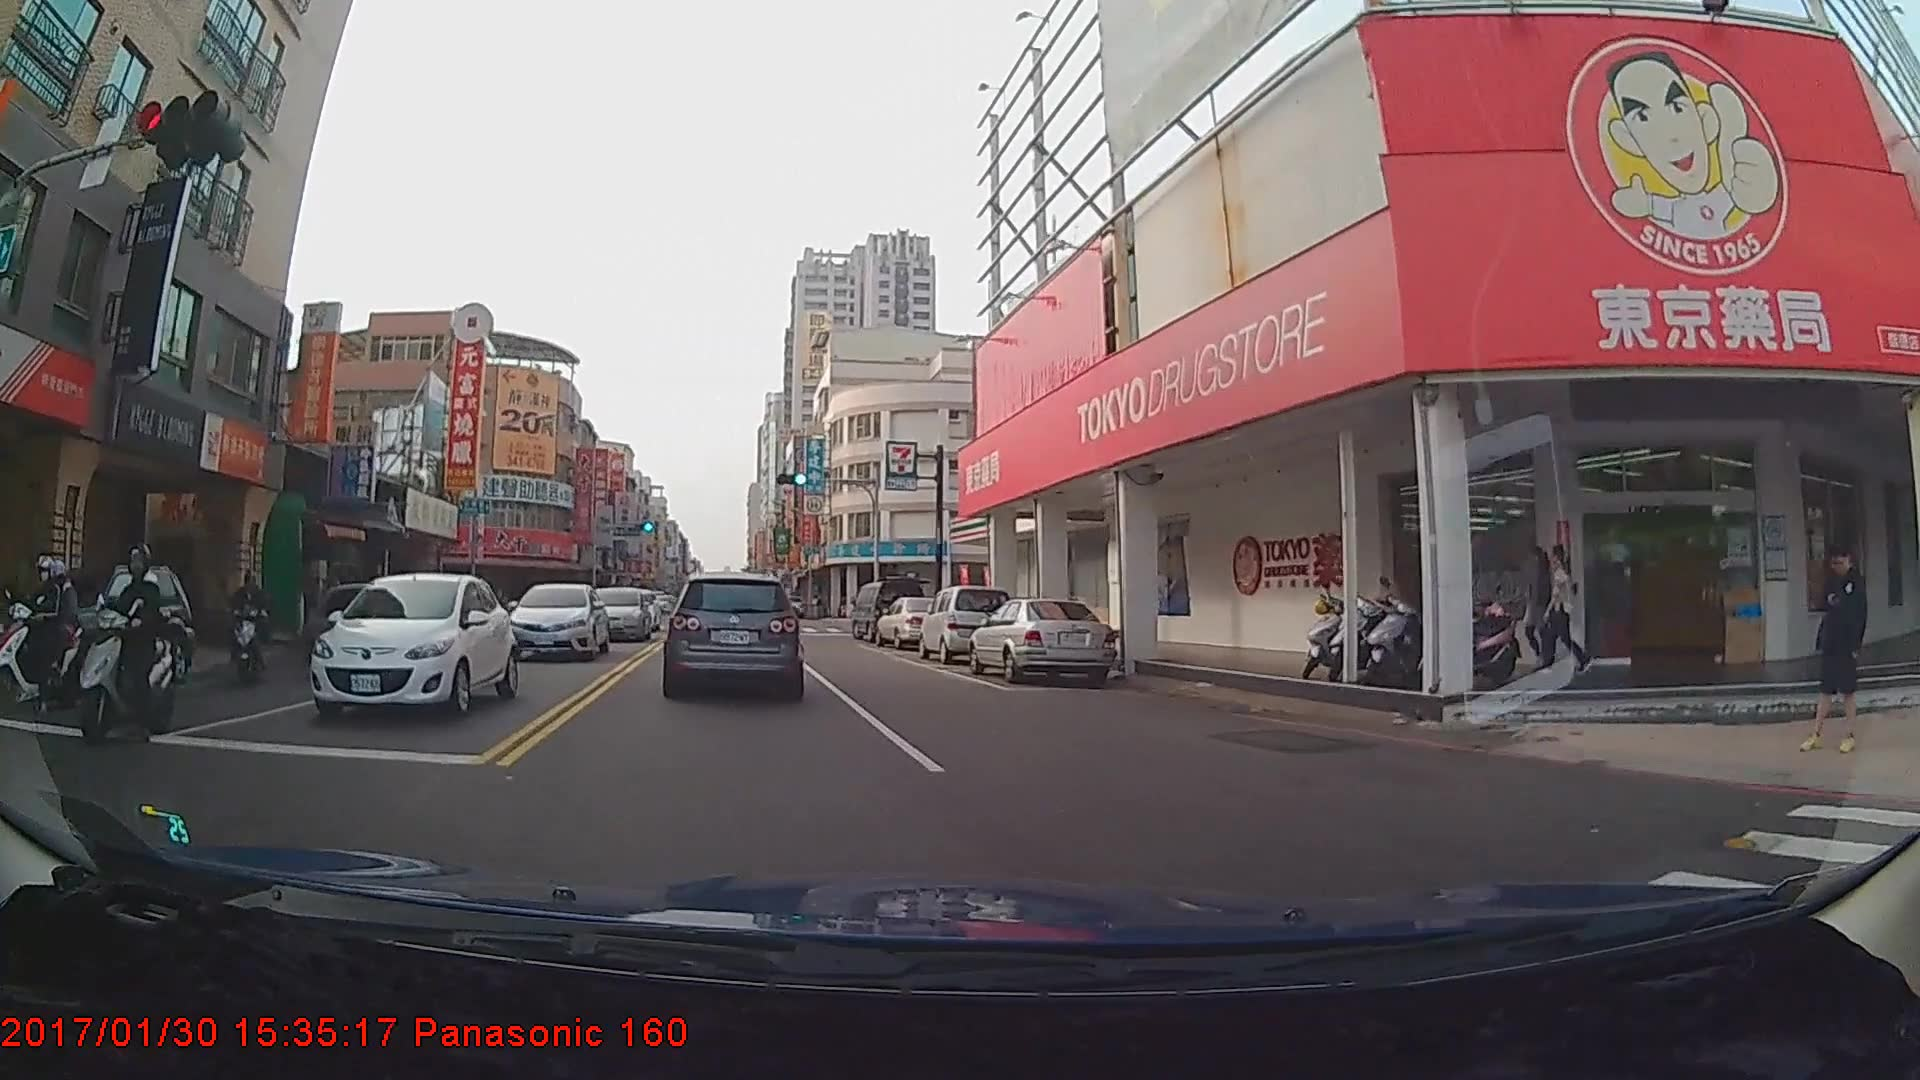pedestrian: (1799, 538, 1872, 753), (1537, 544, 1584, 678), (1522, 544, 1559, 665)
rider: (73, 546, 187, 746), (227, 564, 276, 686)
vehicle: (303, 571, 514, 722), (0, 561, 195, 704), (667, 573, 799, 699), (965, 595, 1116, 689), (504, 582, 608, 661), (915, 586, 1012, 664), (853, 582, 920, 642), (874, 598, 950, 647), (583, 587, 648, 643)
